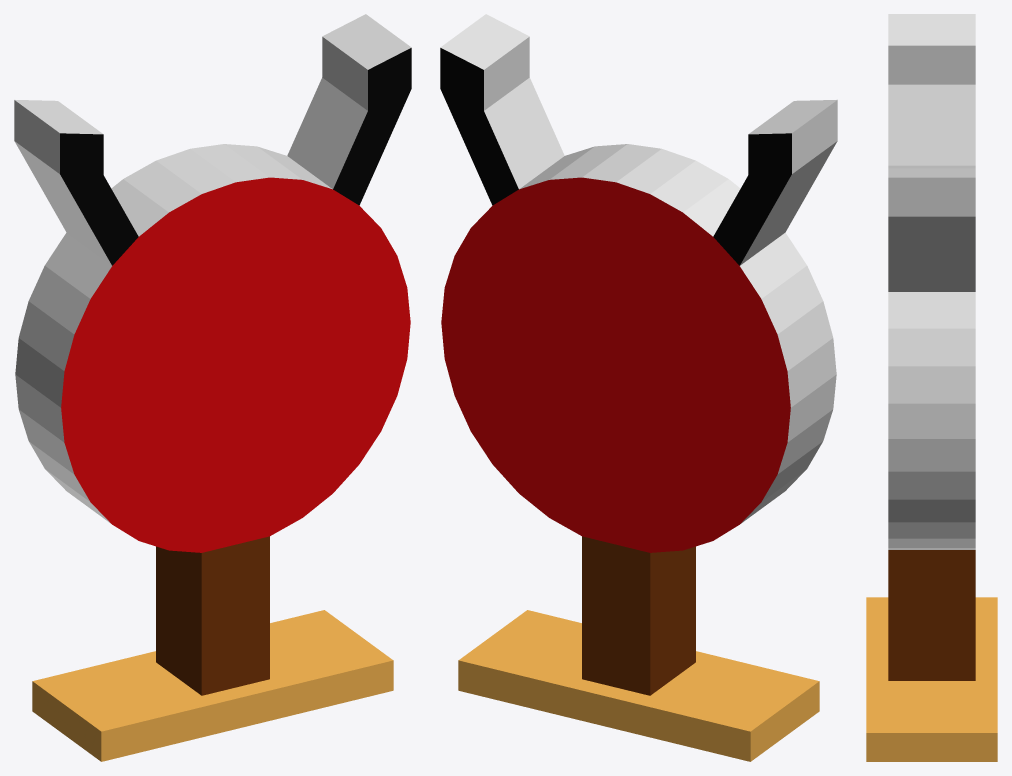
Rendered from BodyTarget.fbx.
The picture shows the model from 3 angles, left to right: view 1: azimuth 30°, elevation 25°; view 2: azimuth 150°, elevation 25°; view 3: azimuth 270°, elevation 25°; orthographic projection. The views are drawn at different scales.
Visible parts, largest first — view 1: MiniBodyTarget; view 2: MiniBodyTarget; view 3: MiniBodyTarget.
Part boxes in pixels (x1=…): MiniBodyTarget: x1=14, y1=14, x2=411, y2=761; MiniBodyTarget: x1=440, y1=14, x2=837, y2=761; MiniBodyTarget: x1=866, y1=14, x2=997, y2=761.
Bounding box in the file's own units: 202 × 344 × 68.59.
